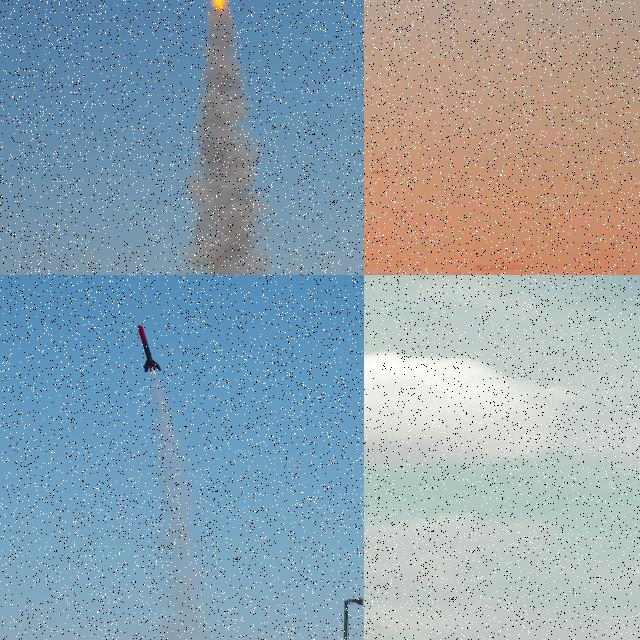Rocket: (137, 323, 162, 372)
